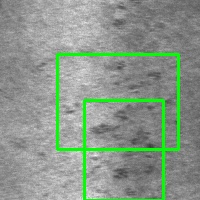rolled-in_scale: (57, 54, 178, 149), (84, 100, 163, 200)
